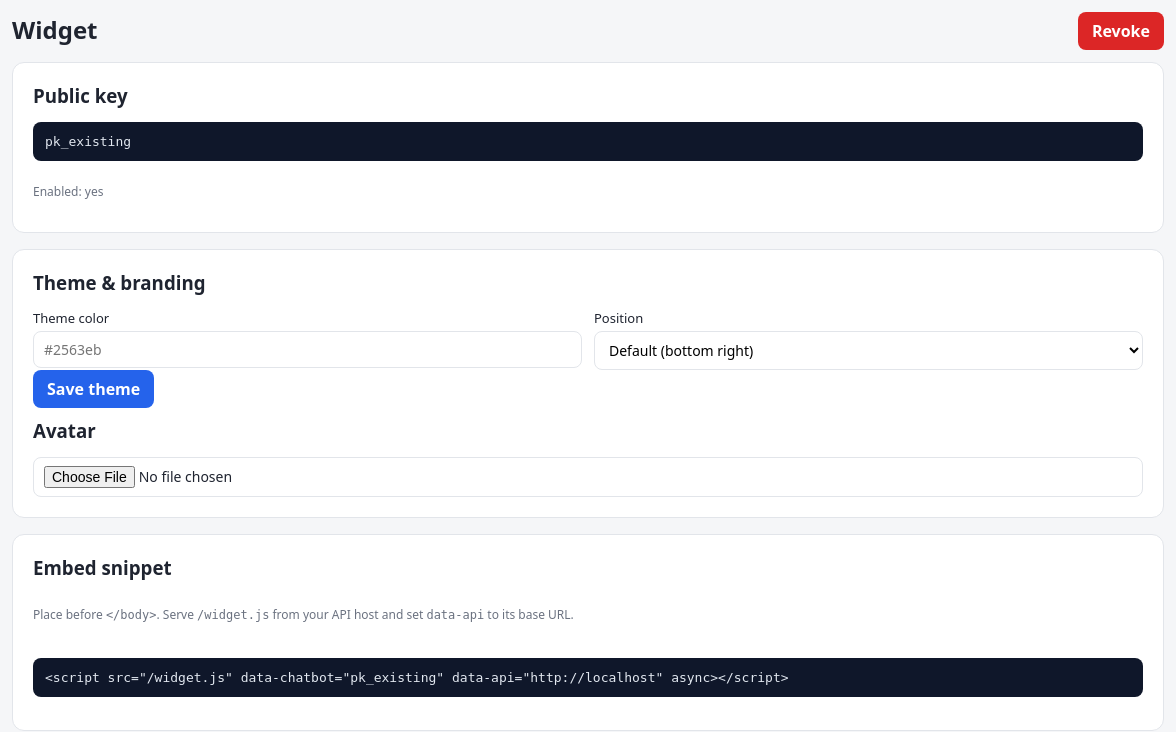
Test case: WidgetConfigPage › revokes the credential after confirmation and returns to the create form
Expected: the text "pk_existing" is shown, [33,122,1143,161]
Click the button "Revoke": x=1121, y=31 [1078,12,1164,50]
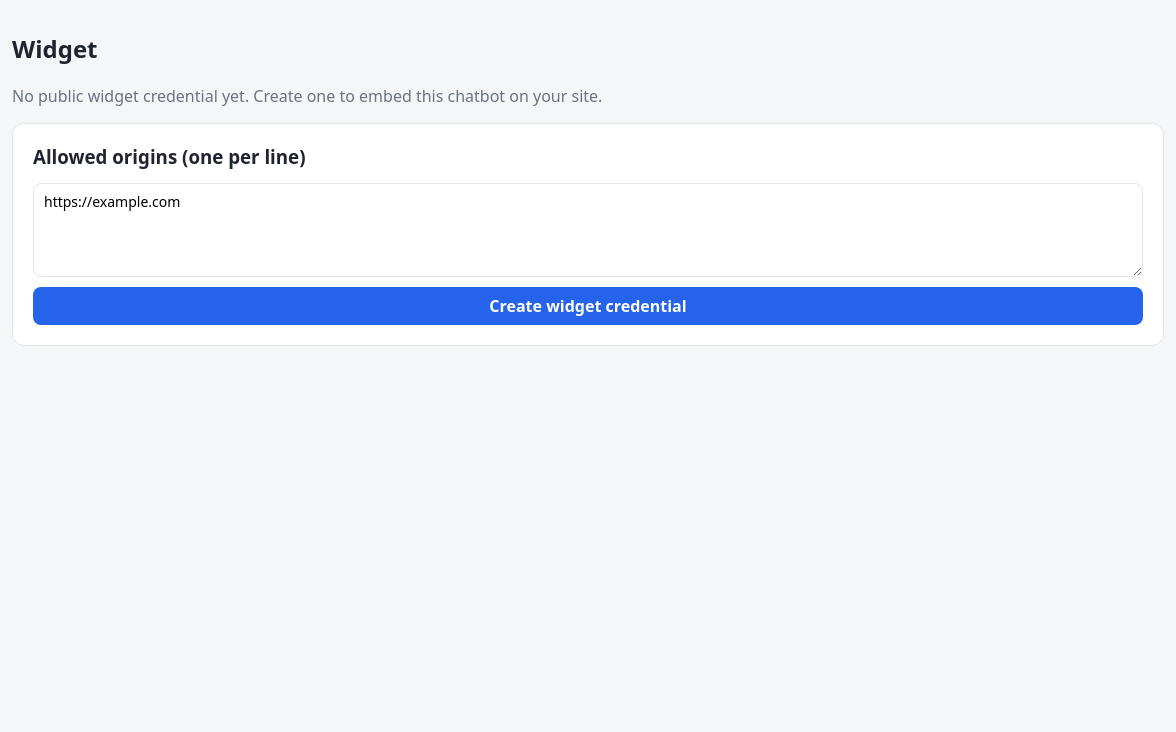
Expected: the text "No public widget credential yet" is shown, [12,85,602,107]
